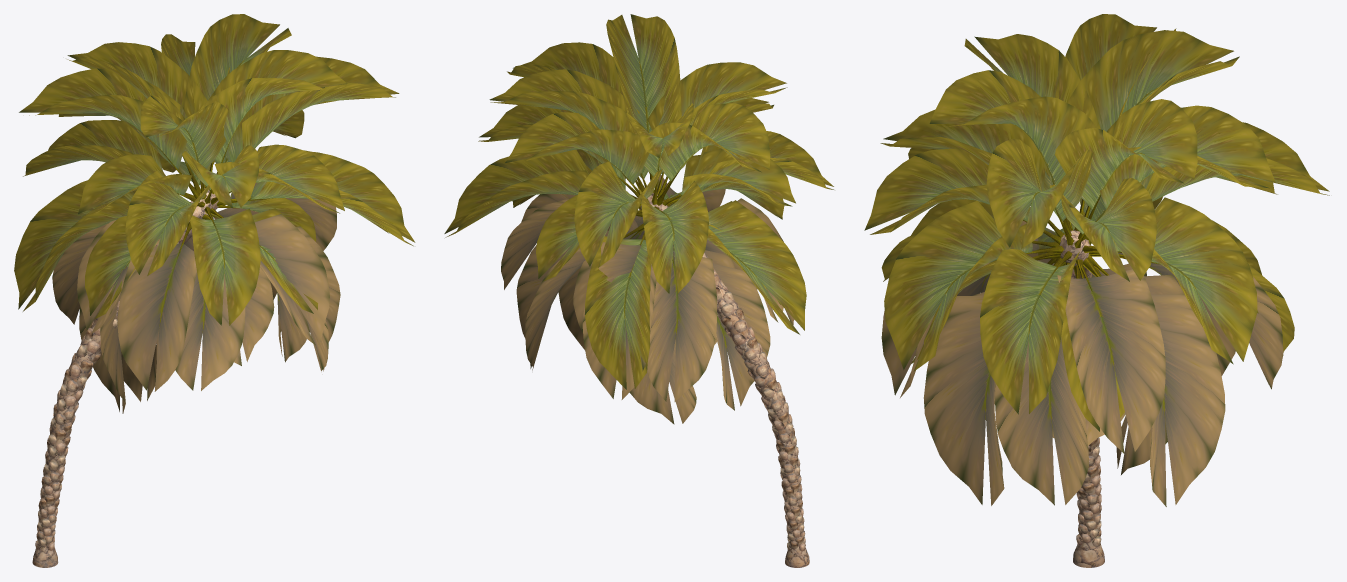
Rendered from palme 1.fbx.
3 views of the same model, side by side, from view 1: azimuth 30°, elevation 25°; view 2: azimuth 150°, elevation 25°; view 3: azimuth 270°, elevation 25° (orthographic). The views are drawn at different scales.
Visible parts, largest first — view 1: date palm leaf1_3, date palm leaf2_4, palm bark_2, palm01_0, frond stem_1; view 2: date palm leaf1_3, date palm leaf2_4, palm bark_2, palm01_0, frond stem_1; view 3: date palm leaf1_3, date palm leaf2_4, frond stem_1, palm bark_2, palm01_0.
Boxes of the visible parts, left/top/right/bottom form: date palm leaf1_3: left=14, top=14, right=415, bottom=325; date palm leaf2_4: left=52, top=183, right=340, bottom=413; palm bark_2: left=35, top=300, right=119, bottom=550; palm01_0: left=32, top=188, right=218, bottom=567; frond stem_1: left=164, top=146, right=272, bottom=257; date palm leaf1_3: left=444, top=14, right=833, bottom=389; date palm leaf2_4: left=501, top=175, right=794, bottom=424; palm bark_2: left=716, top=286, right=805, bottom=551; palm01_0: left=639, top=193, right=809, bottom=567; frond stem_1: left=618, top=167, right=682, bottom=265; date palm leaf1_3: left=864, top=14, right=1329, bottom=431; date palm leaf2_4: left=881, top=201, right=1283, bottom=506; frond stem_1: left=1023, top=180, right=1158, bottom=291; palm bark_2: left=1076, top=437, right=1101, bottom=547; palm01_0: left=1059, top=230, right=1104, bottom=567.
Size of the model in its own units: 443 by 588 by 417.
5 materials, 5 textured.
